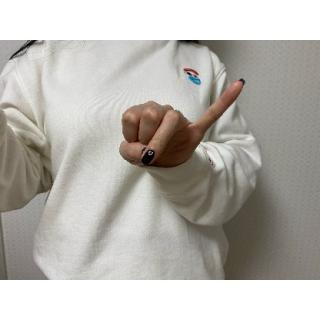MEEM: (116, 76, 252, 176)
